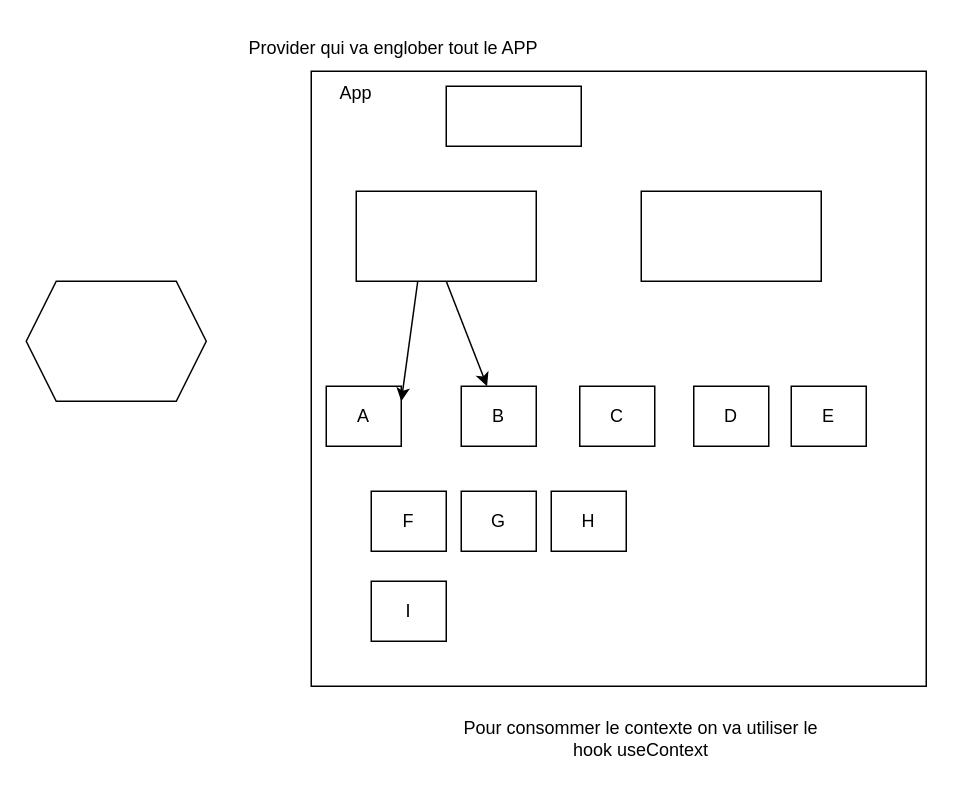
Some shapes in this 953 by 786 pixel diagram are drawn without their labels. The centre of each missing label's shape, as x and y in pixels:
child 1: point 445,235
child 2: point 730,235
Context 1: point 115,340
Props: point 513,115
